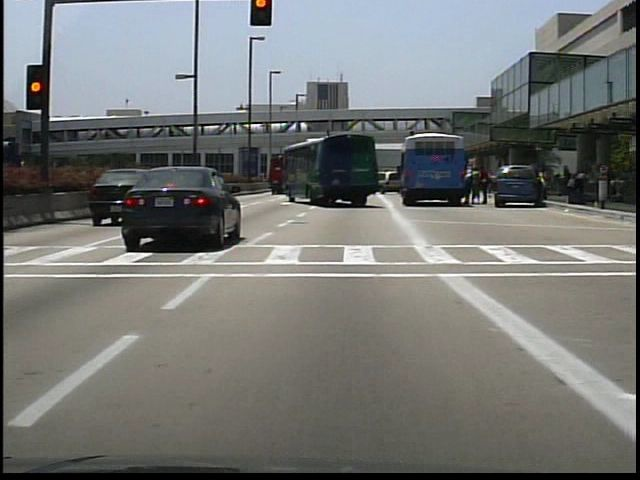person: (466, 162, 481, 205), (477, 164, 491, 208), (535, 167, 548, 207)
